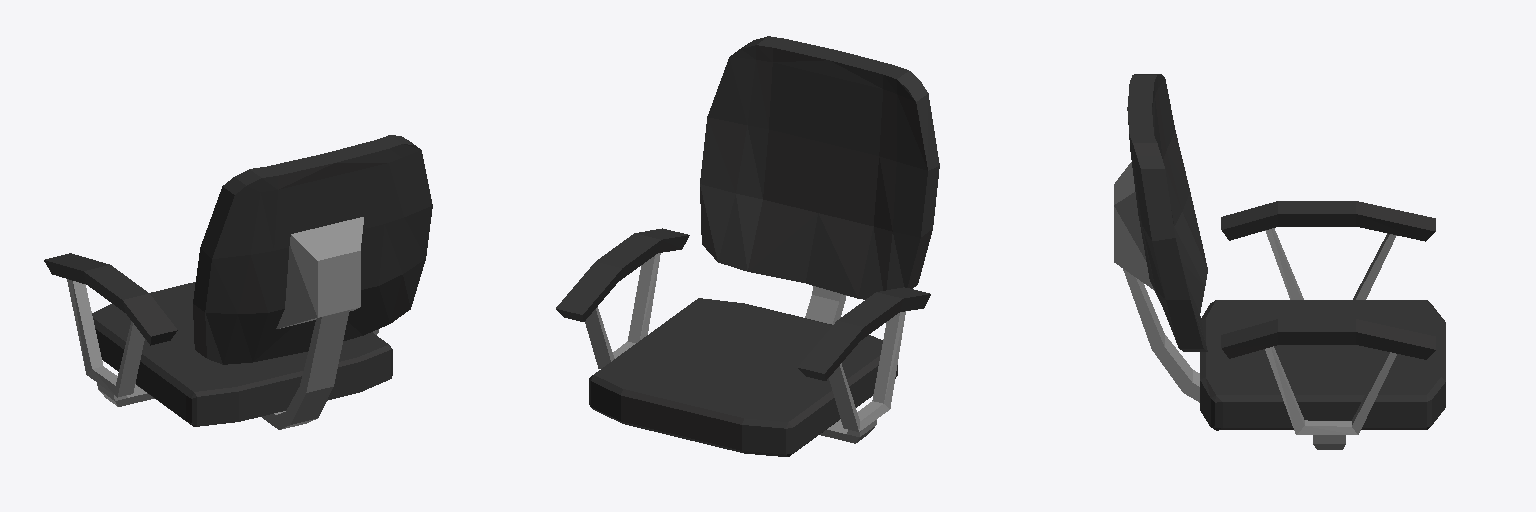
File: ChairSeat.obj
The picture shows the model from 3 angles: view 1: azimuth 30°, elevation 25°; view 2: azimuth 150°, elevation 25°; view 3: azimuth 270°, elevation 25°; orthographic projection.
Visible parts, largest first — view 1: ChairSeat; view 2: ChairSeat; view 3: ChairSeat.
Part boxes in pixels (x1,y1,x2,y2): ChairSeat: (44, 135, 432, 429); ChairSeat: (556, 36, 939, 456); ChairSeat: (1114, 74, 1445, 449).
Bounding box in the file's own units: 0.6087 × 0.6413 × 0.6515.